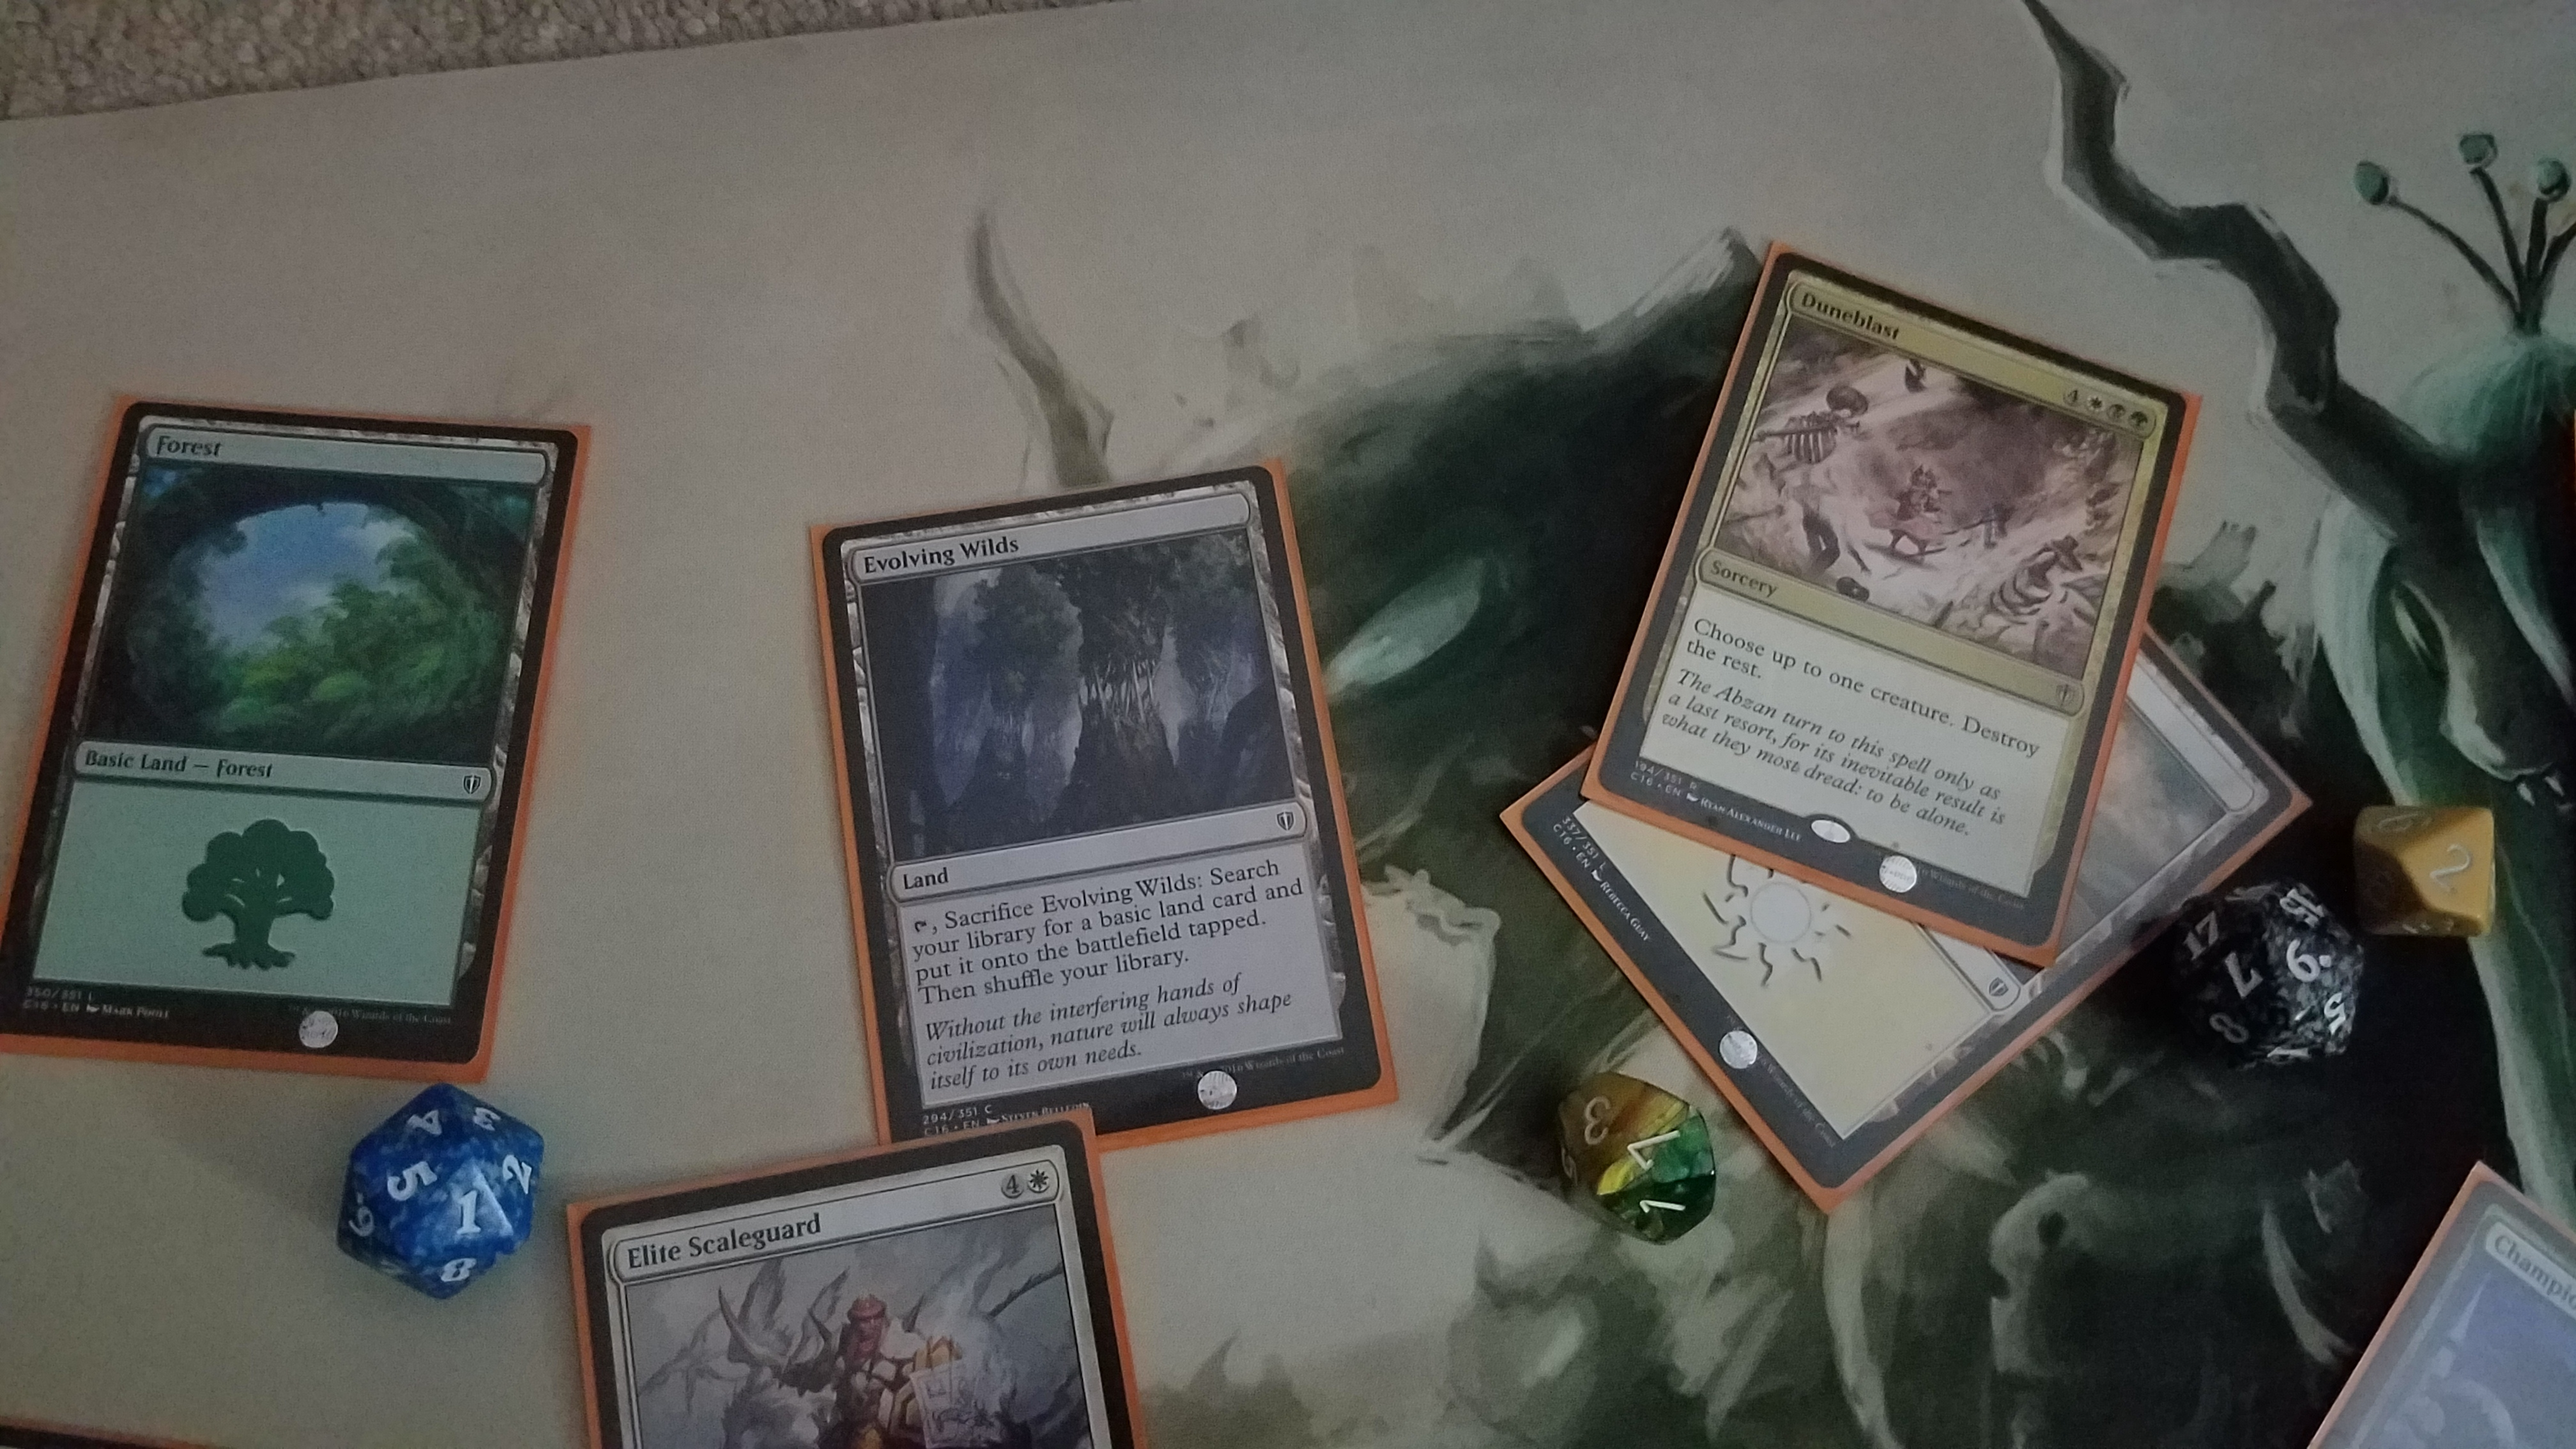Card: (1589, 244, 2178, 955), (0, 400, 589, 1076), (814, 465, 1384, 1141), (589, 1116, 1136, 1449)
